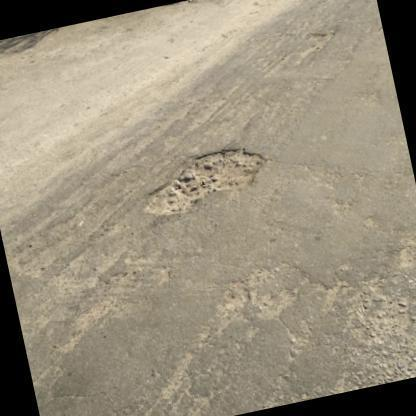pothole: (141, 142, 270, 218), (345, 268, 416, 340), (216, 266, 294, 324)
